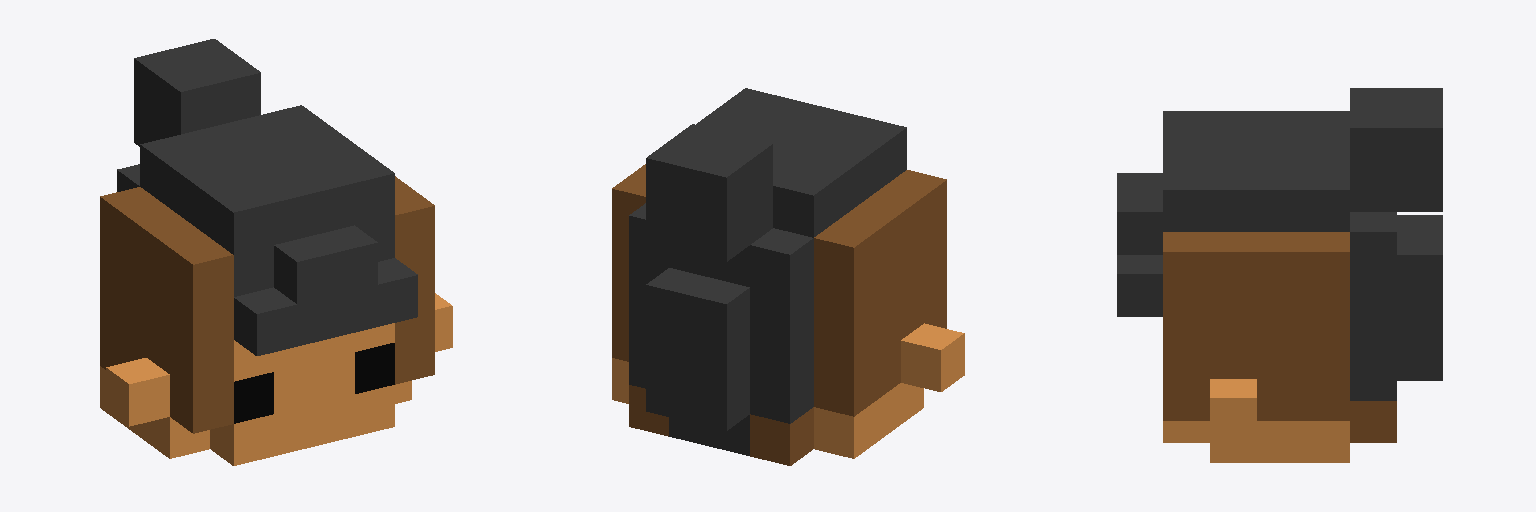
3 renders of one model, left to right at view 1: azimuth 30°, elevation 25°; view 2: azimuth 150°, elevation 25°; view 3: azimuth 270°, elevation 25°, orthographic.
Size of the model in its own units: 8 by 7 by 7.
1 materials, 1 textured.